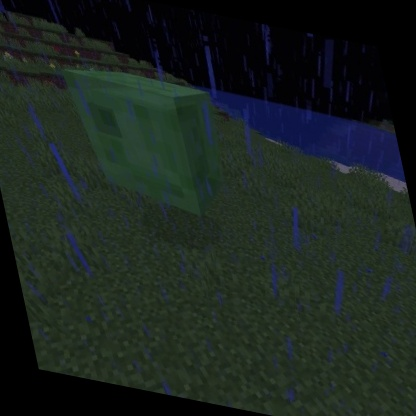slime: (53, 53, 242, 229)
